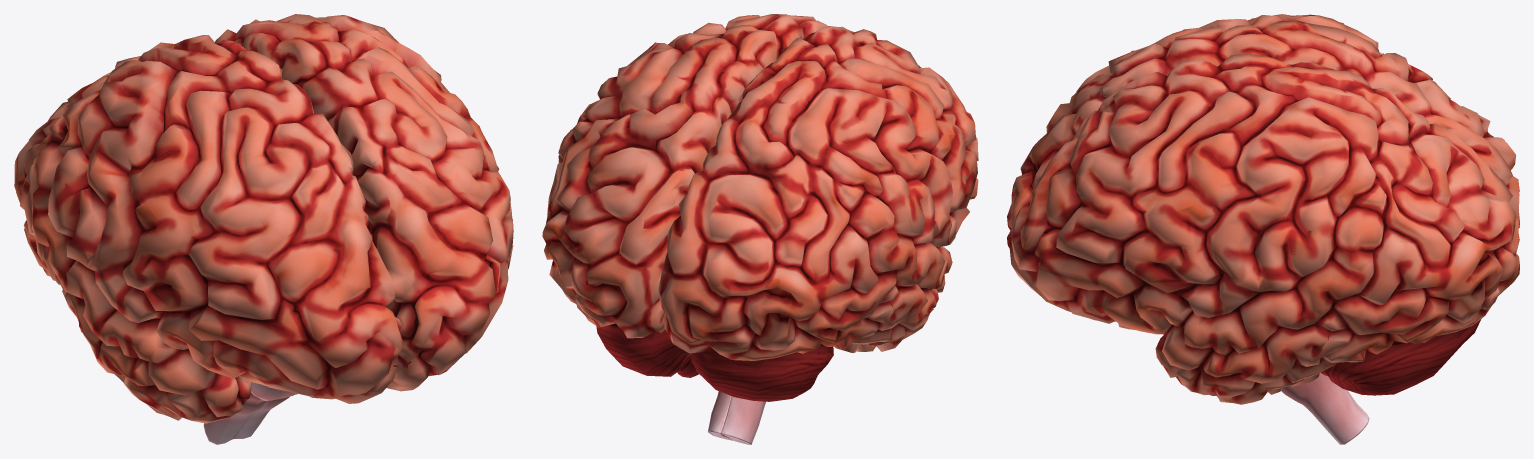
The model's file is new brain.glb.
3 views of the same model, side by side, from view 1: azimuth 30°, elevation 25°; view 2: azimuth 150°, elevation 25°; view 3: azimuth 270°, elevation 25° (orthographic). The views are drawn at different scales.
Parts seen in each view (by area): view 1: Brain.001; view 2: Brain.001; view 3: Brain.001.
Part boxes in pixels (x1,y1,x2,y2): Brain.001: (14,14,513,444); Brain.001: (542,14,978,444); Brain.001: (1007,14,1519,444).
Size of the model in its own units: 0.9843 by 1.02 by 1.21.
Materials: 1 (1 with a texture image).
